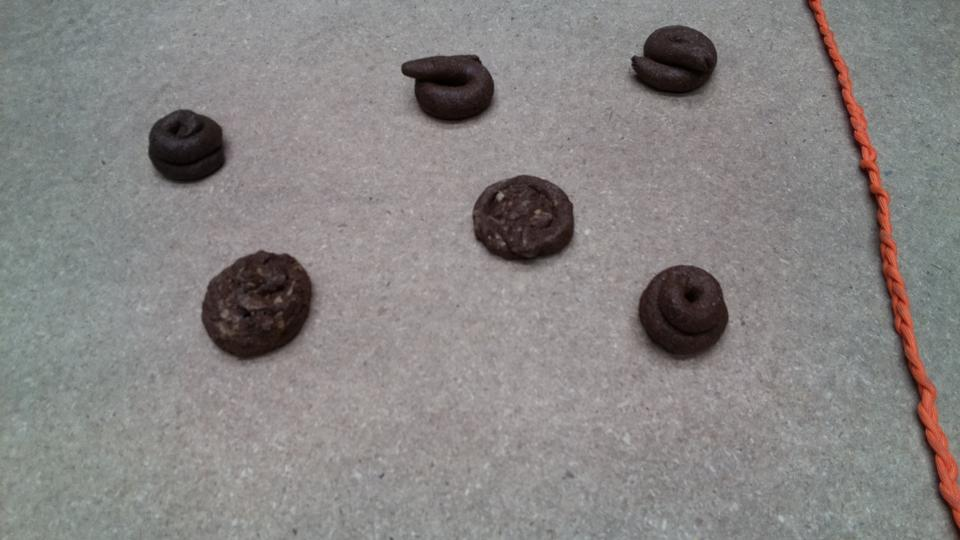poop: (197, 247, 318, 365), (470, 172, 580, 270), (636, 260, 734, 365), (398, 47, 498, 130), (628, 23, 719, 101), (145, 105, 229, 187)
rope: (810, 1, 960, 534)
